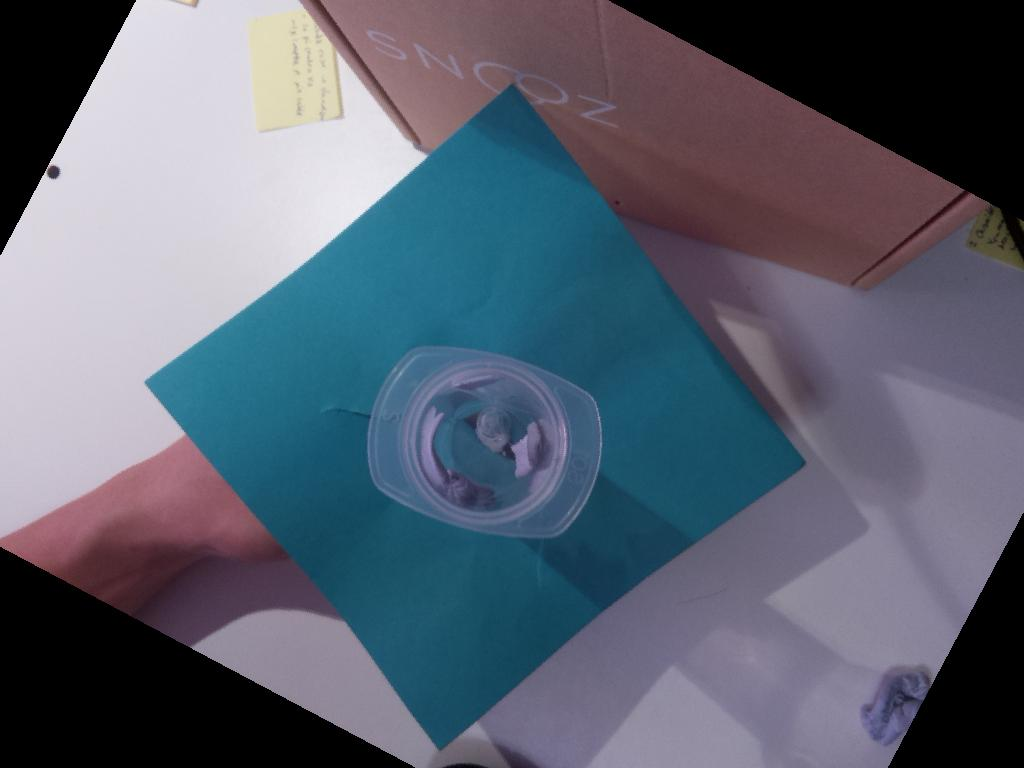dirty: (357, 340, 611, 544)
